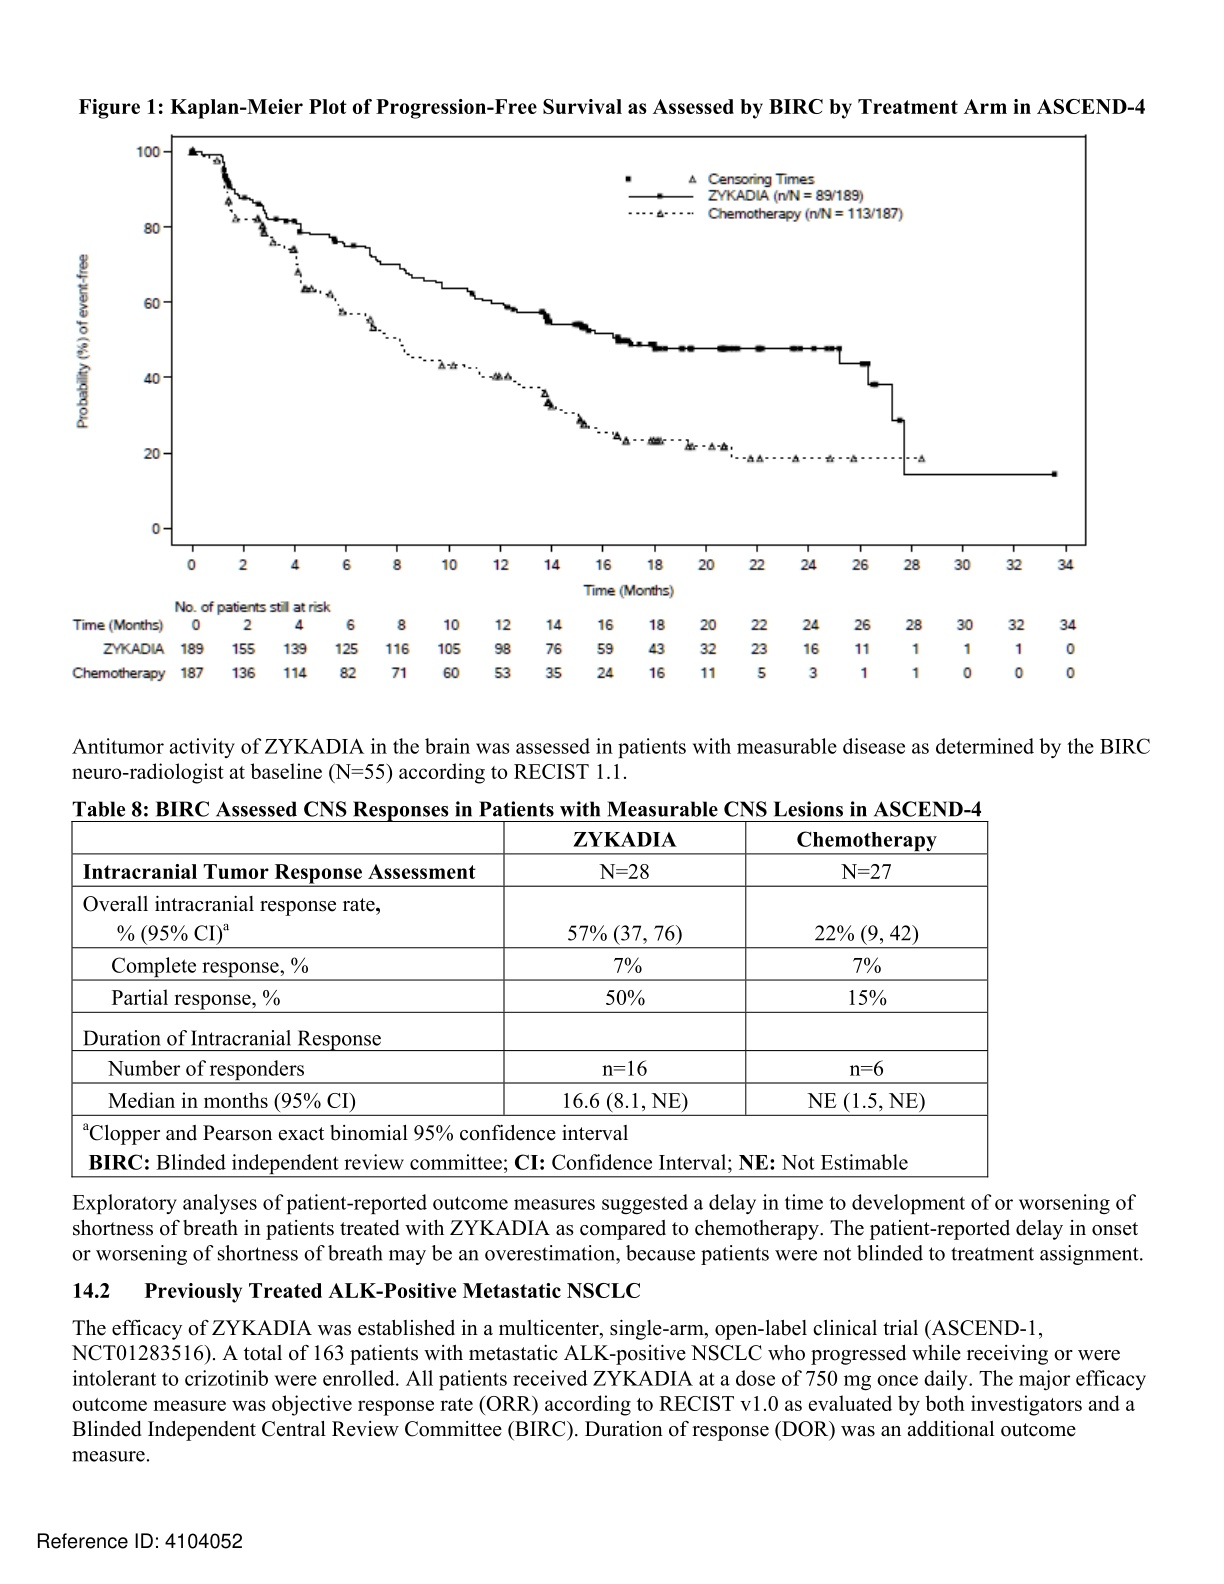merged_cells: (69, 820, 990, 1179)
nolines: (71, 615, 1079, 683)
